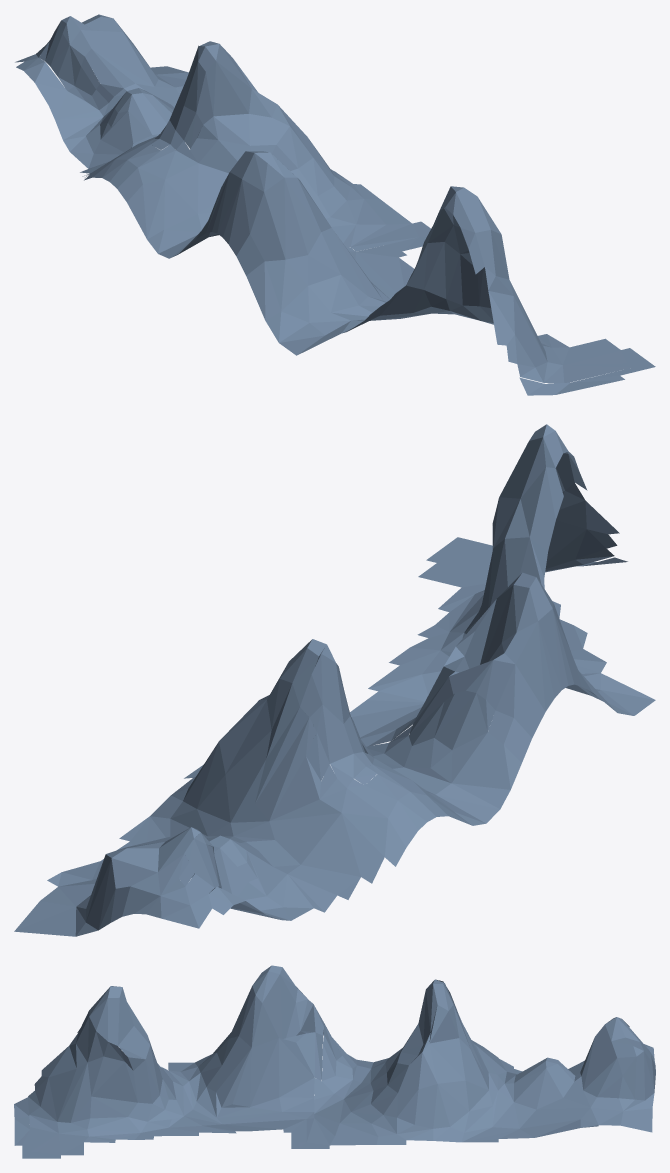
3 renders of one model, top to bottom at view 1: azimuth 30°, elevation 25°; view 2: azimuth 150°, elevation 25°; view 3: azimuth 270°, elevation 25°, orthographic. The views are drawn at different scales.
Parts seen in each view (by area): view 1: MT4; view 2: MT4; view 3: MT4.
Boxes of the visible parts, x1,y1,x2,y2 form: MT4: [15, 14, 655, 395]; MT4: [14, 424, 655, 936]; MT4: [14, 965, 655, 1158].
Size of the model in its own units: 52.94 by 34.19 by 152.
